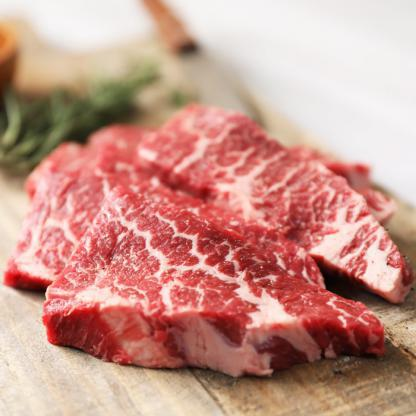beef: (41, 118, 408, 366)
